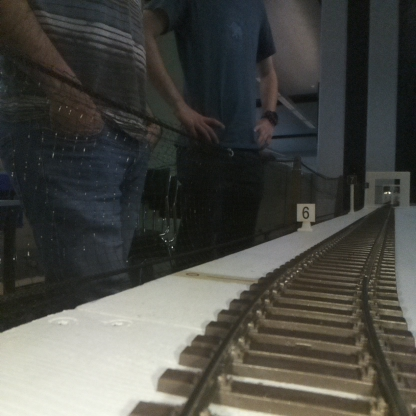white-stop-6: (297, 203, 315, 232)
